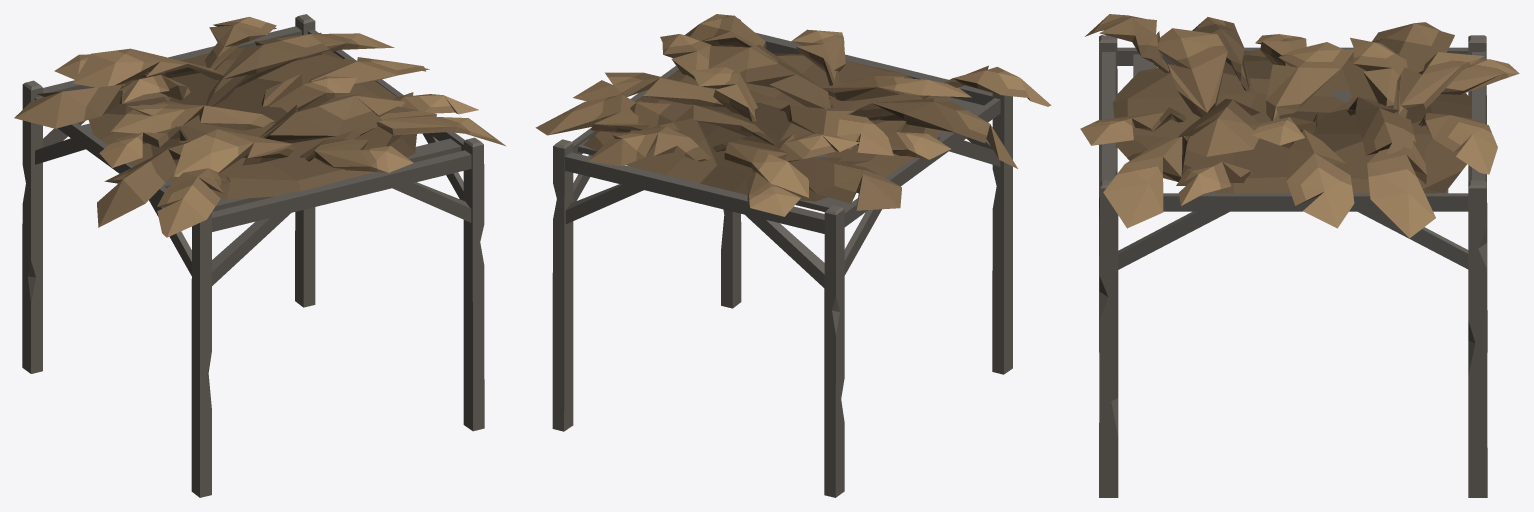
Rendered from SM_Bld_Village_Cover_01.fbx.
3 renders of one model, left to right at view 1: azimuth 30°, elevation 25°; view 2: azimuth 150°, elevation 25°; view 3: azimuth 270°, elevation 25°, orthographic. The views are drawn at different scales.
Visible parts, largest first — view 1: SM_Bld_Village_Cover_Leaf_01, SM_Bld_Village_Cover_01; view 2: SM_Bld_Village_Cover_Leaf_01, SM_Bld_Village_Cover_01; view 3: SM_Bld_Village_Cover_Leaf_01, SM_Bld_Village_Cover_01.
Boxes of the visible parts, box(x1,y1,x2,y2) form: SM_Bld_Village_Cover_Leaf_01: box(14, 16, 505, 237); SM_Bld_Village_Cover_01: box(22, 14, 484, 497); SM_Bld_Village_Cover_Leaf_01: box(535, 14, 1051, 216); SM_Bld_Village_Cover_01: box(552, 18, 1012, 497); SM_Bld_Village_Cover_Leaf_01: box(1080, 14, 1519, 238); SM_Bld_Village_Cover_01: box(1099, 35, 1487, 497).
Bounding box in the file's own units: 573 × 437 × 511.
